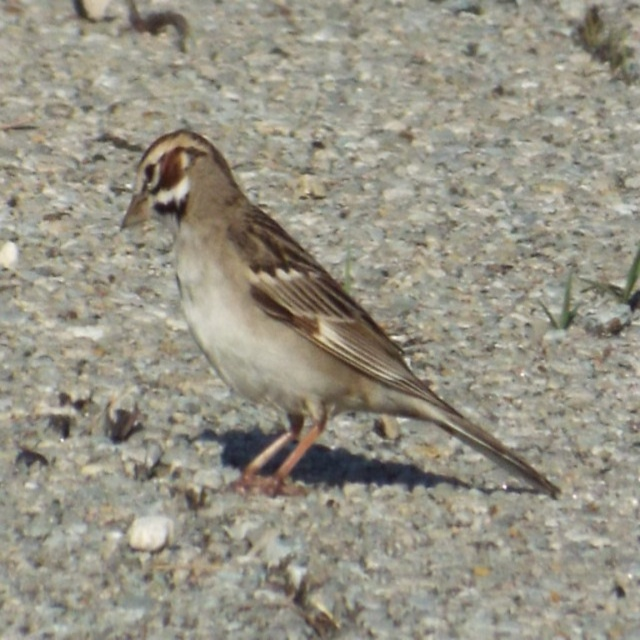Sparrow: (119, 131, 561, 503)
